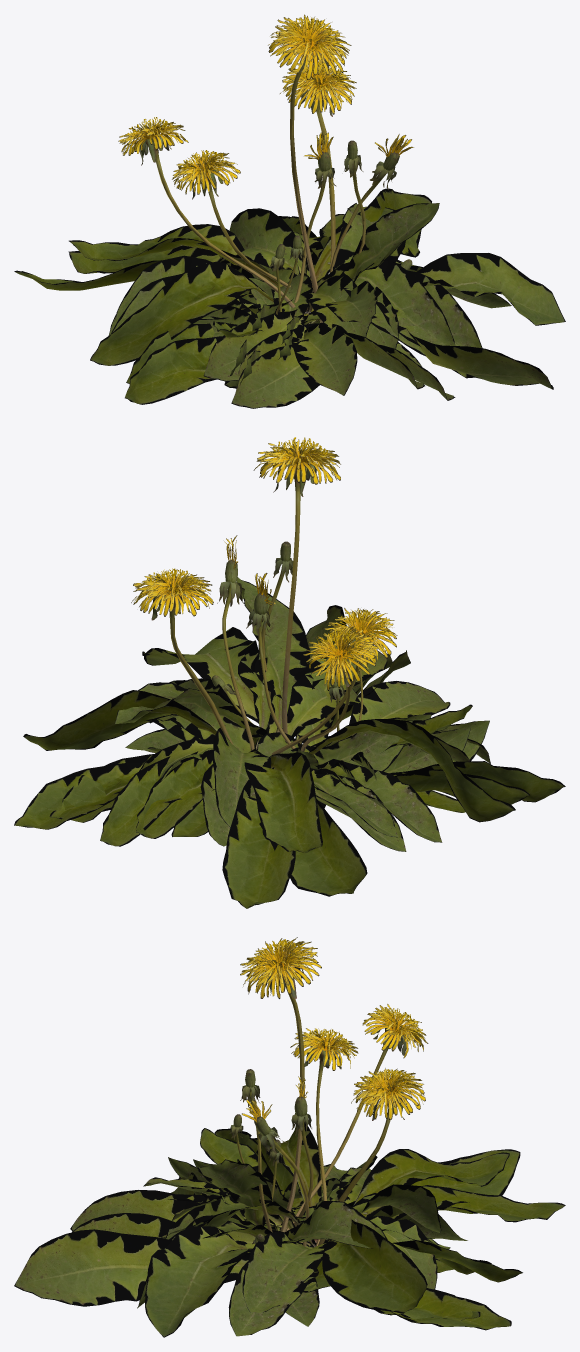
The model's file is dandelion_01.glb.
3 views of the same model, one above another, from view 1: azimuth 30°, elevation 25°; view 2: azimuth 150°, elevation 25°; view 3: azimuth 270°, elevation 25° (orthographic). The views are drawn at different scales.
Parts seen in each view (by area): view 1: dandelion_01_0, dandelion_01_4, dandelion_01_1, dandelion_01_2, dandelion_01_3; view 2: dandelion_01_0, dandelion_01_1, dandelion_01_4, dandelion_01_2, dandelion_01_3; view 3: dandelion_01_0, dandelion_01_4, dandelion_01_1, dandelion_01_2, dandelion_01_3.
Part boxes in pixels (left/top/right/bottom): dandelion_01_0: left=68, top=14, right=565, bottom=408; dandelion_01_4: left=69, top=188, right=455, bottom=389; dandelion_01_1: left=14, top=61, right=511, bottom=400; dandelion_01_2: left=212, top=132, right=357, bottom=395; dandelion_01_3: left=193, top=244, right=421, bottom=388; dandelion_01_0: left=49, top=437, right=565, bottom=908; dandelion_01_1: left=14, top=535, right=529, bottom=896; dandelion_01_4: left=23, top=650, right=515, bottom=853; dandelion_01_2: left=125, top=573, right=470, bottom=836; dandelion_01_3: left=147, top=675, right=489, bottom=808; dandelion_01_0: left=14, top=937, right=565, bottom=1337; dandelion_01_4: left=70, top=1123, right=509, bottom=1313; dandelion_01_1: left=72, top=1028, right=522, bottom=1336; dandelion_01_2: left=168, top=1076, right=467, bottom=1326; dandelion_01_3: left=168, top=1128, right=440, bottom=1292.
Size of the model in its own units: 0.2203 by 0.1643 by 0.2577.
Materials: 1 (1 with a texture image).
